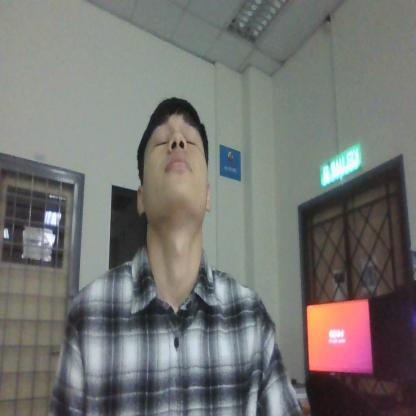Closed-Eyes: (147, 122, 205, 157)
